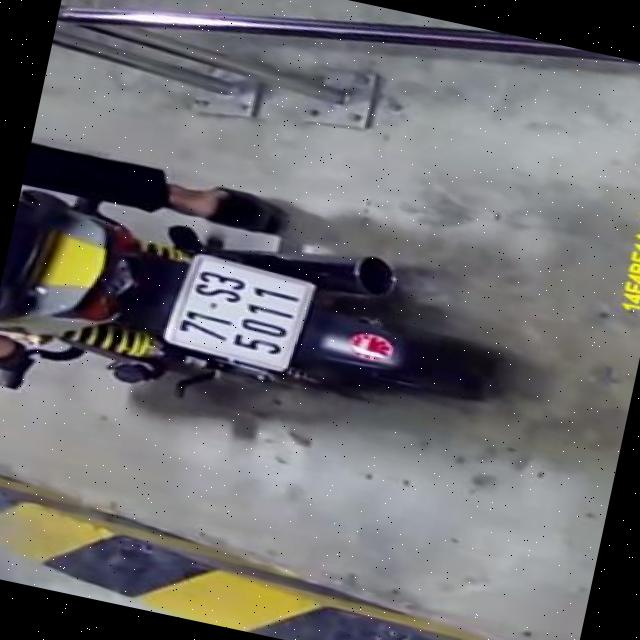license_plate: (166, 253, 314, 369)
